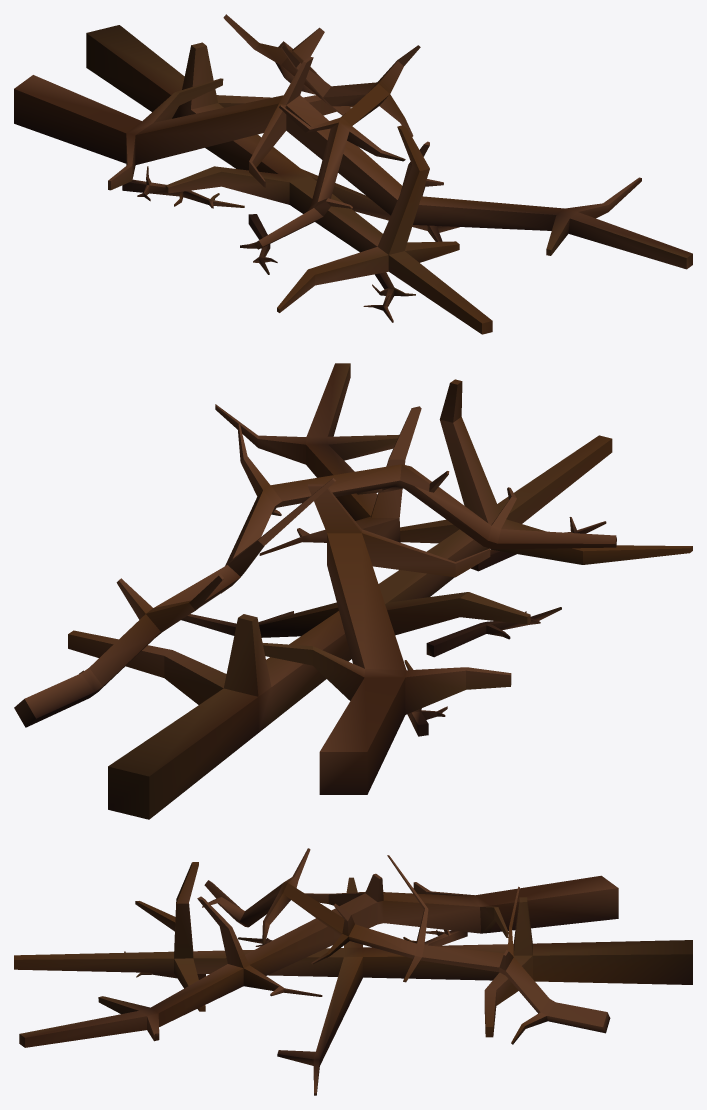
Rendered from brushwood.fbx.
3 views of the same model, one above another, from view 1: azimuth 30°, elevation 25°; view 2: azimuth 150°, elevation 25°; view 3: azimuth 270°, elevation 25° (orthographic). The views are drawn at different scales.
Parts seen in each view (by area): view 1: brushwood; view 2: brushwood; view 3: brushwood.
Part boxes in pixels (x1=…): brushwood: x1=14, y1=14, x2=692, y2=334; brushwood: x1=14, y1=363, x2=692, y2=819; brushwood: x1=14, y1=848, x2=692, y2=1095.
Bounding box in the file's own units: 63.1 × 28.87 × 109.
